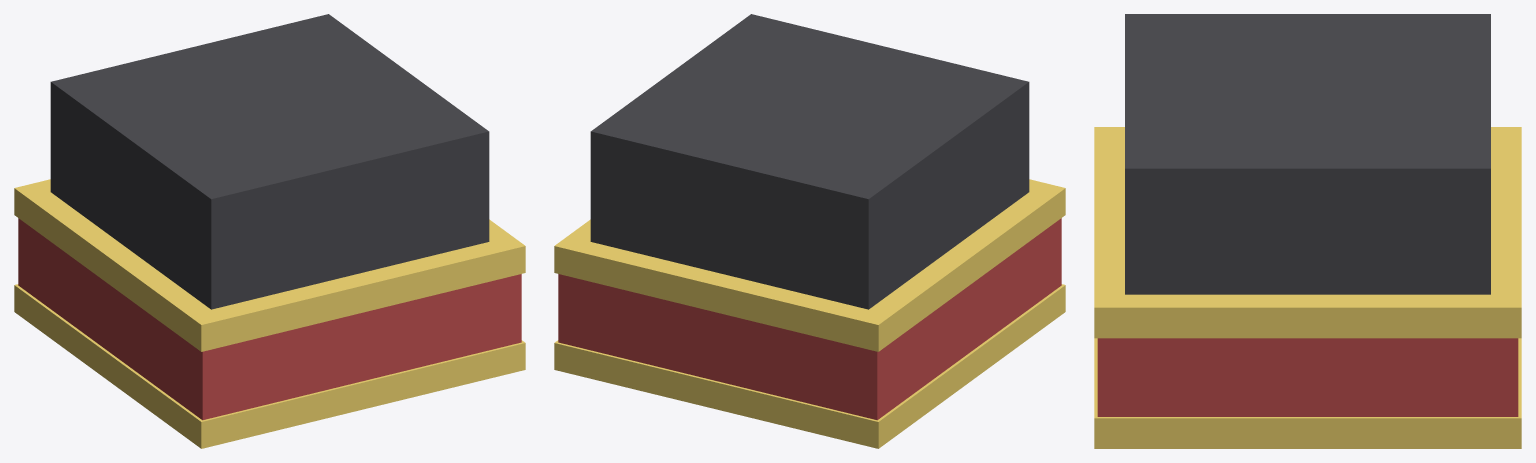
The model's file is samurai_manga_inf.glb.
3 renders of one model, left to right at view 1: azimuth 30°, elevation 25°; view 2: azimuth 150°, elevation 25°; view 3: azimuth 270°, elevation 25°, orthographic. The views are drawn at different scales.
Visible parts, largest first — view 1: samurai_manga_inf; view 2: samurai_manga_inf; view 3: samurai_manga_inf.
Boxes of the visible parts, box(x1,y1,x2,y2) form: samurai_manga_inf: box(14, 14, 525, 448); samurai_manga_inf: box(554, 14, 1065, 448); samurai_manga_inf: box(1094, 14, 1521, 448).
Size of the model in its own units: 0.315 by 0.2175 by 0.315.
